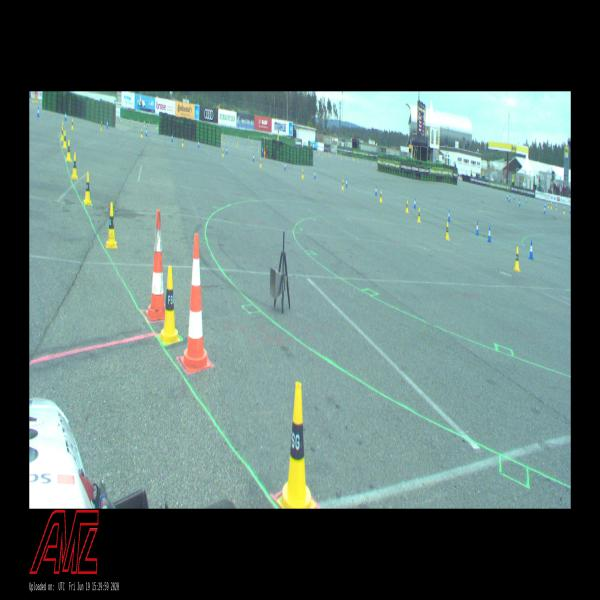blue_cone: (529, 241, 533, 260), (475, 221, 479, 236), (488, 226, 491, 243), (37, 107, 40, 117), (448, 209, 450, 221), (106, 120, 109, 128), (64, 112, 67, 120), (414, 198, 416, 208), (375, 186, 377, 196), (314, 170, 316, 179), (544, 206, 546, 214), (284, 162, 286, 170), (252, 153, 254, 161), (145, 128, 147, 136), (508, 195, 510, 202), (226, 147, 228, 154), (526, 197, 528, 202), (346, 178, 347, 186), (172, 134, 173, 142), (198, 140, 199, 148), (519, 199, 520, 206), (507, 192, 508, 199), (545, 202, 546, 208), (514, 194, 515, 200), (570, 208, 570, 214)
large_orange_cone: (181, 232, 211, 370), (146, 210, 166, 320)
yellow_cone: (282, 385, 312, 508), (159, 265, 180, 343), (105, 202, 118, 248), (84, 172, 92, 206), (71, 153, 78, 180), (514, 247, 520, 271), (66, 140, 71, 160), (445, 222, 450, 240), (62, 130, 66, 148), (417, 208, 421, 222), (405, 200, 409, 213), (61, 126, 64, 141), (61, 122, 64, 135), (71, 118, 74, 130), (301, 168, 304, 179), (379, 190, 382, 201), (342, 179, 344, 189), (100, 120, 102, 130), (260, 158, 262, 167), (140, 129, 142, 137), (222, 148, 224, 156), (182, 138, 184, 146), (563, 207, 565, 214), (550, 202, 552, 209), (132, 120, 134, 126), (555, 205, 557, 210), (548, 202, 549, 208), (258, 148, 259, 152), (251, 144, 252, 148)
